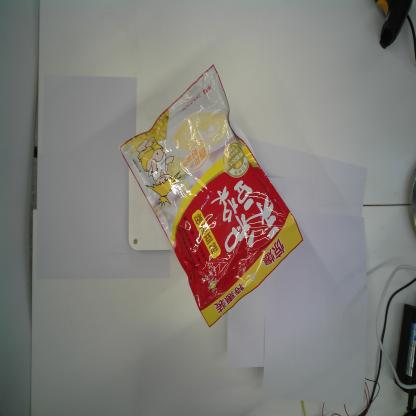Instant Drink: (118, 63, 303, 328)
